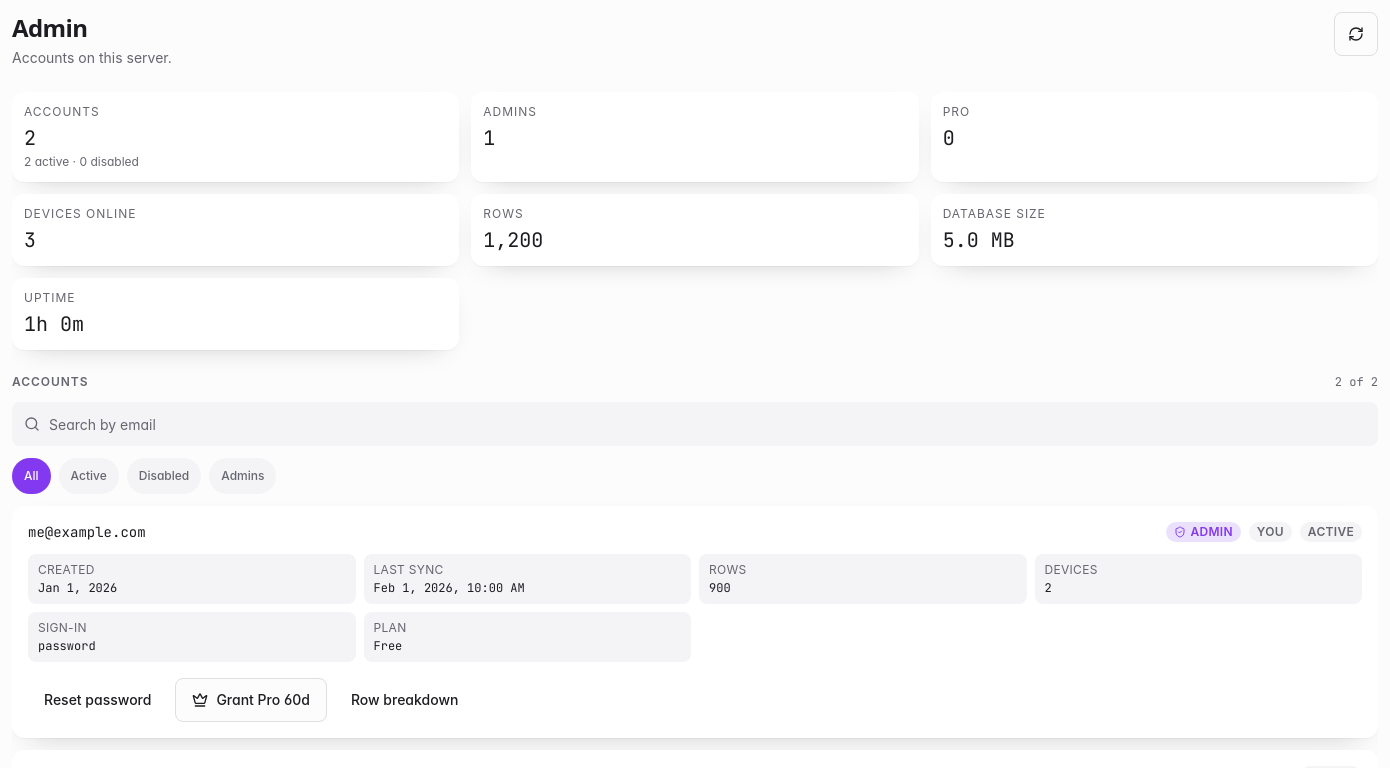
Test: AdminPage — αναζήτηση & φίλτρα › το φίλτρο «Admins» κρατά μόνο τους διαχειριστές
Expected: the text "2 of 2" is shown, [1335,374,1378,390]
Step 1. Click the button "Admins" → (243, 476), box [209,458,276,494]
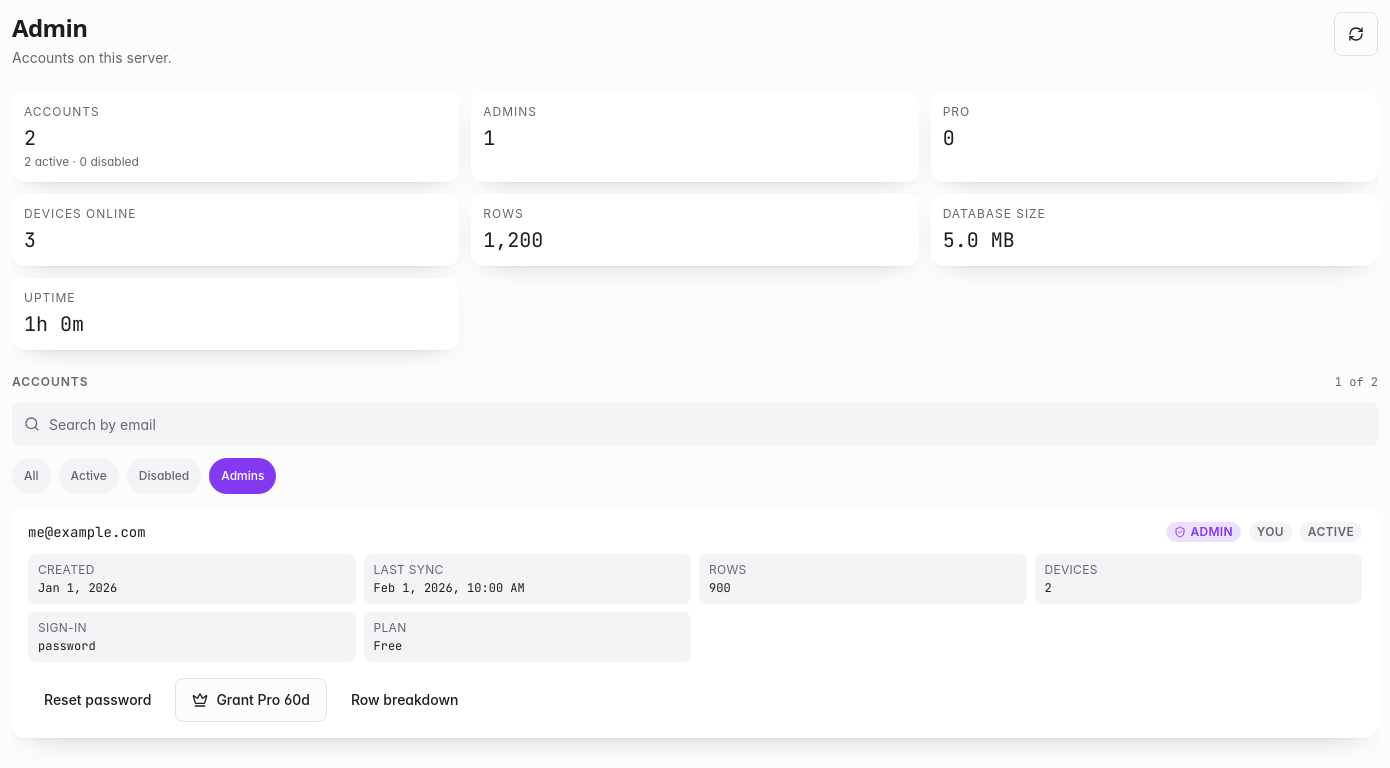
Now the text "1 of 2" is shown, box [1335,374,1378,390]
